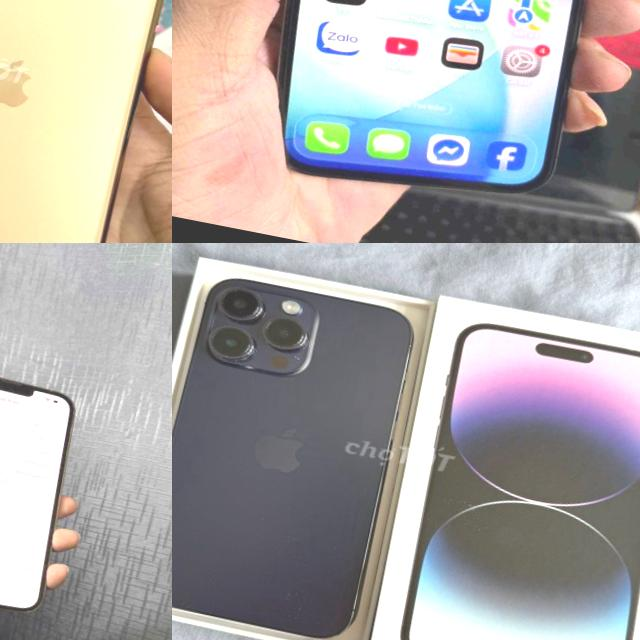gen_11: (0, 0, 162, 243)
gen_12_13: (223, 0, 640, 229), (0, 353, 85, 619)
gen_14: (172, 261, 429, 640)
